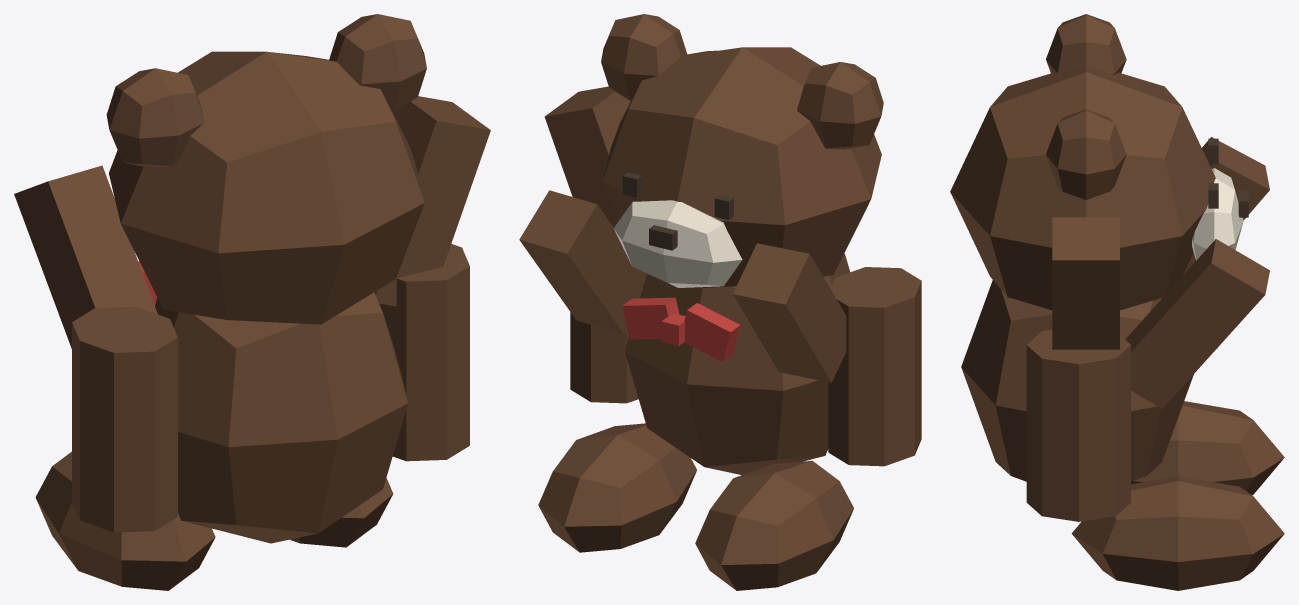
The model's file is R09_Spectator_Bear.fbx.
The picture shows the model from 3 angles, left to right: view 1: azimuth 30°, elevation 25°; view 2: azimuth 150°, elevation 25°; view 3: azimuth 270°, elevation 25°; orthographic projection. The views are drawn at different scales.
Parts seen in each view (by area): view 1: Bear_Sit, Bear_Watch, Bear_Wave; view 2: Bear_Sit, Bear_Watch, Bear_Wave; view 3: Bear_Sit, Bear_Watch, Bear_Wave.
Part boxes in pixels (x1,y1,x2,y2): Bear_Sit: (35, 14, 469, 590); Bear_Watch: (14, 165, 157, 348); Bear_Wave: (374, 96, 490, 306); Bear_Sit: (538, 14, 921, 590); Bear_Watch: (519, 190, 846, 382); Bear_Wave: (544, 86, 630, 227); Bear_Sit: (950, 14, 1284, 590); Bear_Watch: (1125, 137, 1269, 408); Bear_Wave: (1052, 217, 1119, 349).
Size of the model in its own units: 0.6 by 0.8 by 0.5.
